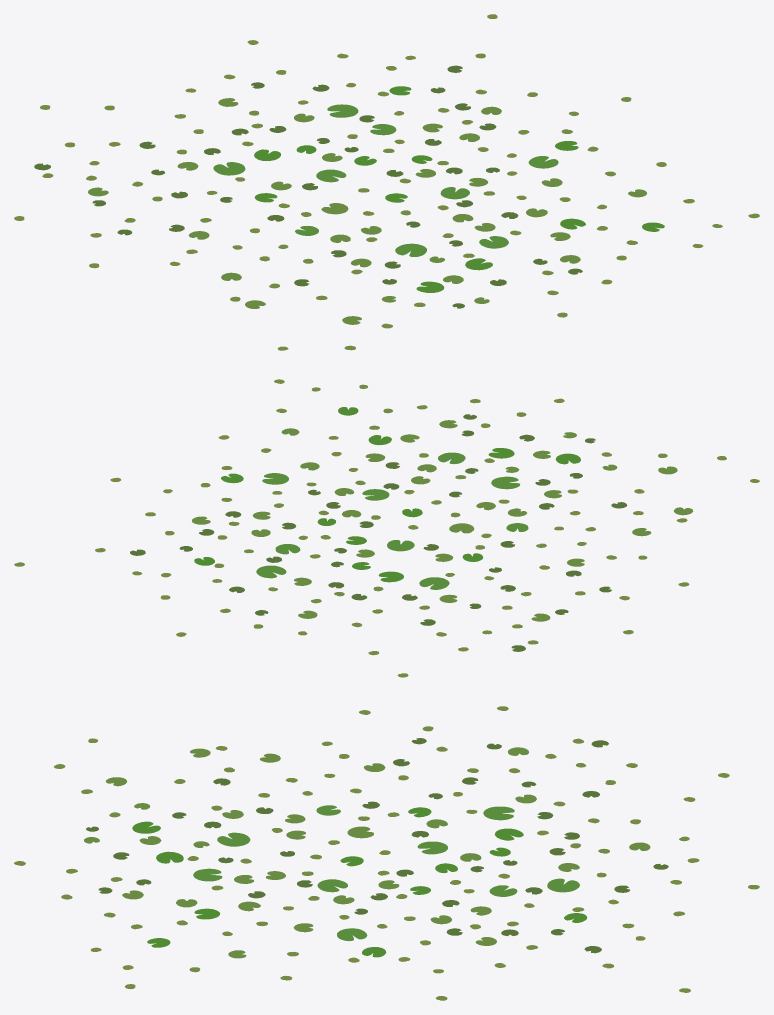
Rendered from plant_nymphaea_set_small_light.fbx.
The picture shows the model from 3 angles, top to bottom: view 1: azimuth 30°, elevation 25°; view 2: azimuth 150°, elevation 25°; view 3: azimuth 270°, elevation 25°; orthographic projection. The views are drawn at different scales.
Visible parts, largest first — view 1: plant_nymphaea_set_small_light; view 2: plant_nymphaea_set_small_light; view 3: plant_nymphaea_set_small_light.
Boxes of the visible parts, box(x1,y1,x2,y2) form: plant_nymphaea_set_small_light: box(14, 14, 759, 350); plant_nymphaea_set_small_light: box(14, 379, 759, 677); plant_nymphaea_set_small_light: box(14, 706, 759, 1000).
Size of the model in its own units: 309 by 0.2115 by 331.
